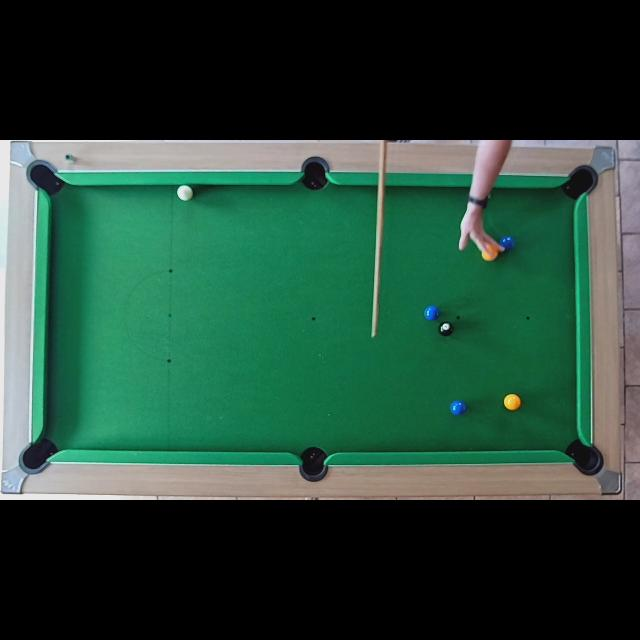Ball: (504, 393, 522, 411), (481, 243, 497, 261), (498, 235, 516, 251), (177, 186, 193, 202), (438, 322, 454, 336), (424, 306, 440, 320), (450, 402, 466, 416)
